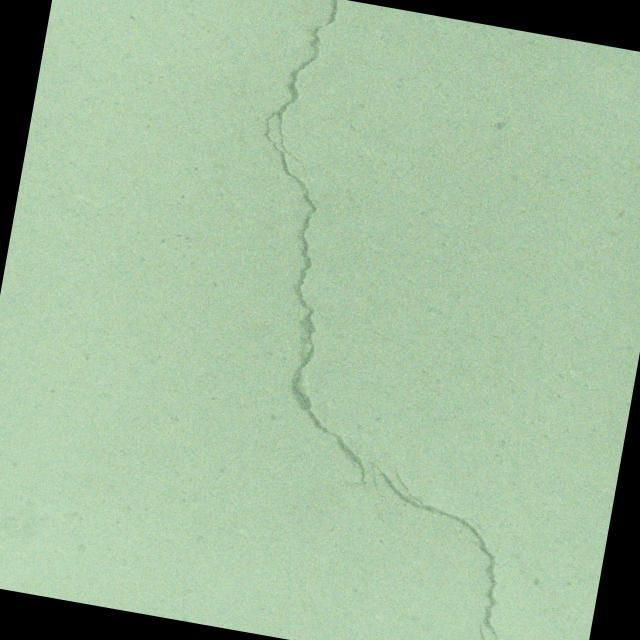crack: (204, 0, 450, 489), (334, 451, 532, 640), (404, 530, 417, 556)
